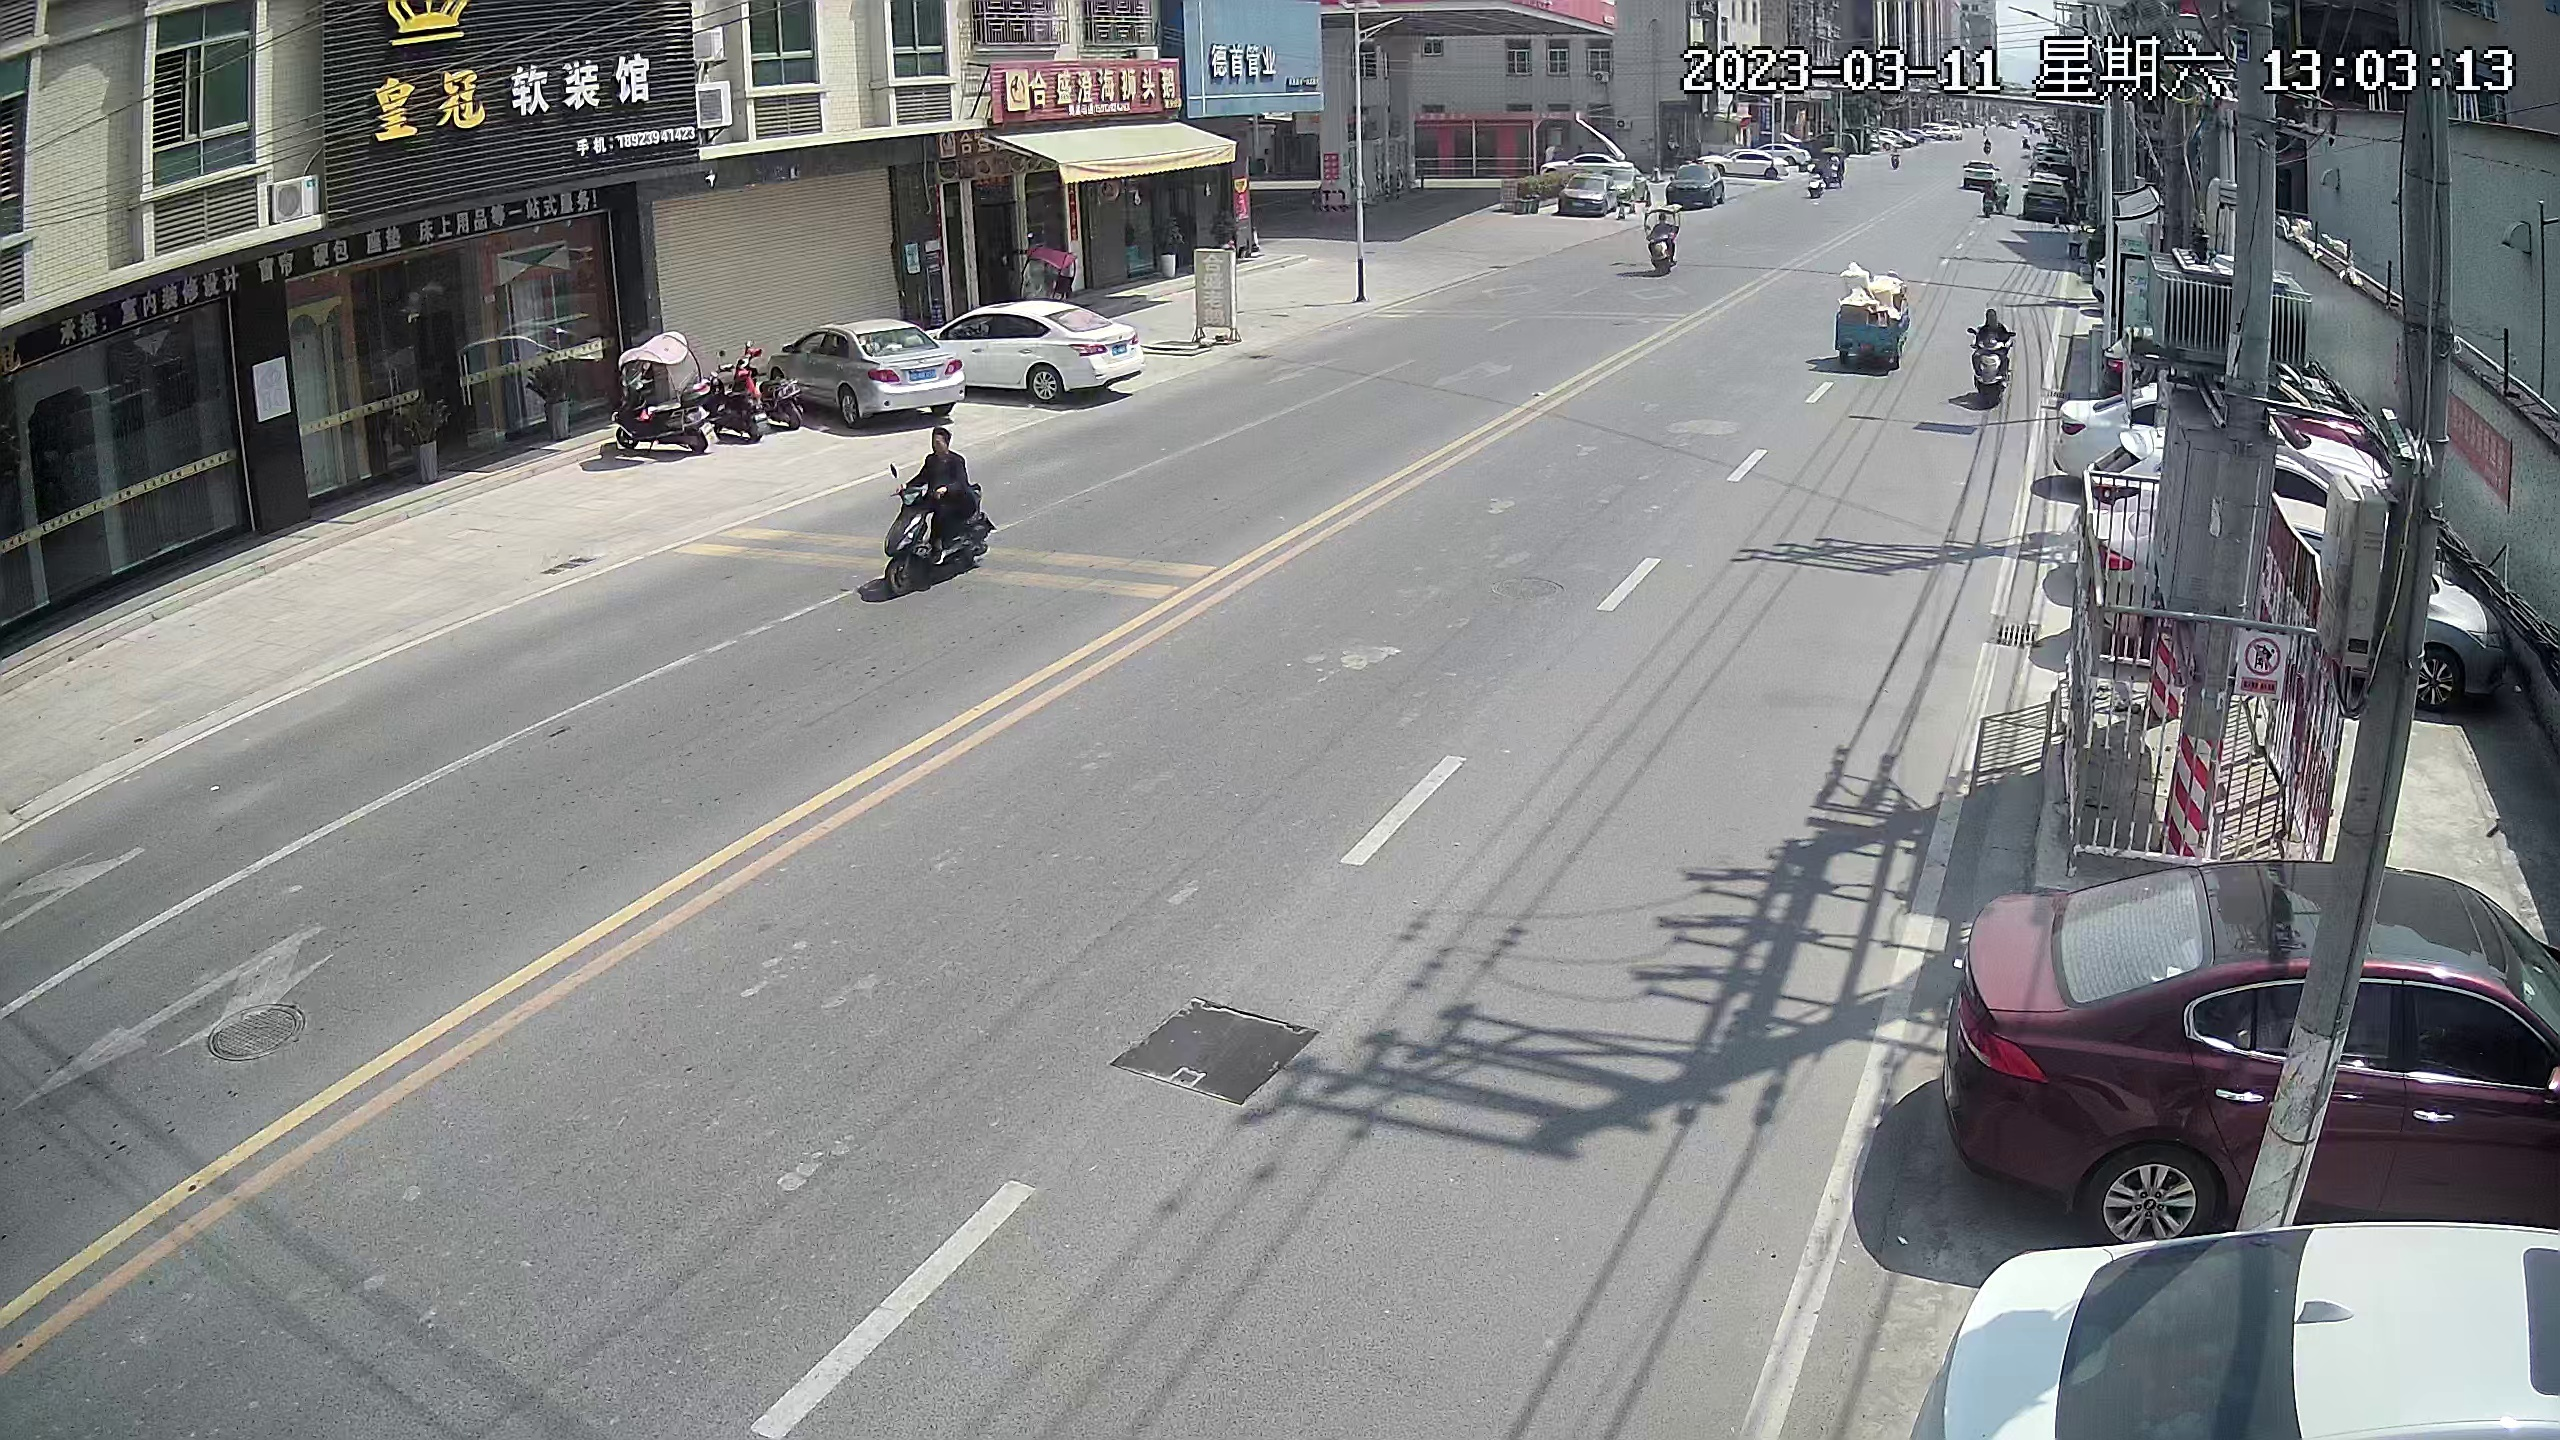motorcycle: (877, 433, 999, 607), (612, 339, 714, 462), (703, 346, 760, 447), (1969, 309, 2017, 404), (754, 362, 804, 425), (1647, 206, 1683, 274), (1982, 174, 2008, 215), (1806, 162, 1829, 200)
sedan: (1959, 847, 2560, 1215), (1939, 1233, 2560, 1440), (2106, 506, 2497, 686), (2092, 433, 2389, 508), (948, 304, 1145, 394), (791, 329, 972, 417), (2071, 396, 2368, 440), (1563, 172, 1618, 220), (1677, 164, 1725, 213), (2033, 158, 2068, 222), (1734, 144, 1785, 185)
tricycle: (1839, 258, 1911, 373)
